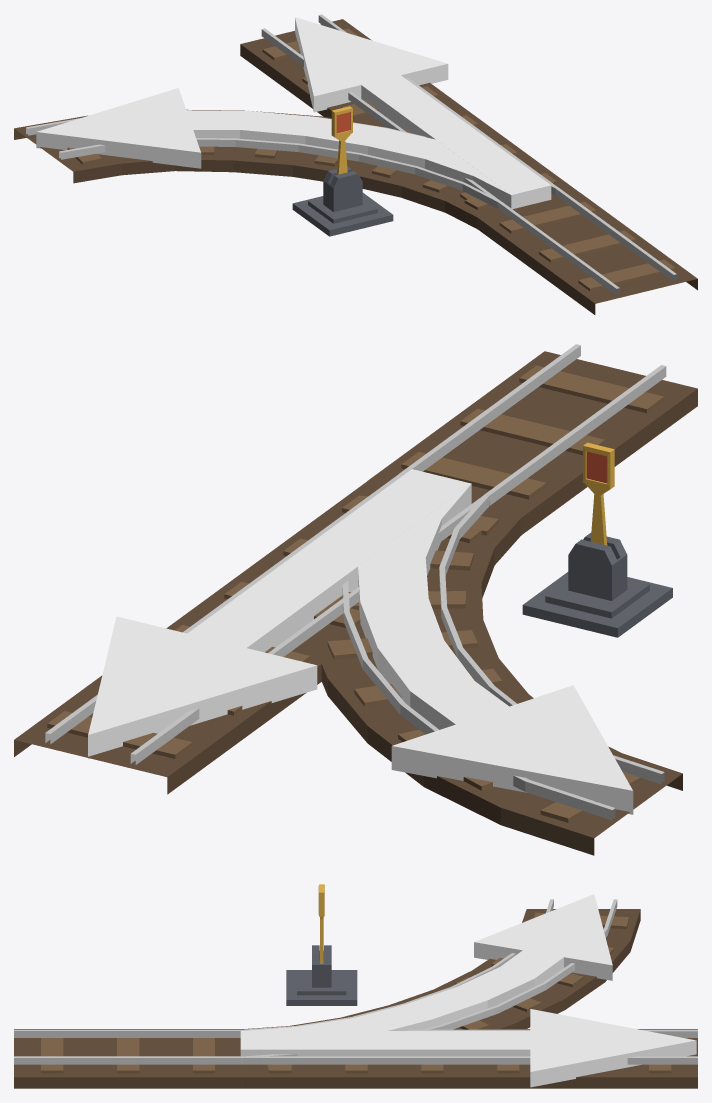
File: Switch Corner Sub.fbx
3 renders of one model, top to bottom at view 1: azimuth 30°, elevation 25°; view 2: azimuth 150°, elevation 25°; view 3: azimuth 270°, elevation 25°, orthographic. The views are drawn at different scales.
Parts seen in each view (by area): view 1: SwitchArrow-1xCurve, SwitchArrow-Straight, Straight 1x Legacy, 1 x Curve, Straight 2x Legacy, Switchbox; view 2: SwitchArrow-Straight, SwitchArrow-1xCurve, Straight 1x Legacy, 1 x Curve, Straight 2x Legacy, Switchbox; view 3: SwitchArrow-Straight, Straight 1x Legacy, Straight 2x Legacy, SwitchArrow-1xCurve, 1 x Curve, Switchbox.
Boxes of the visible parts, x1,y1,x2,y2 form: SwitchArrow-1xCurve: (36,88,519,209); SwitchArrow-Straight: (295,17,551,207); Straight 1x Legacy: (477,187,697,314); 1 x Curve: (14,109,558,228); Straight 2x Legacy: (240,14,578,229); Switchbox: (292,106,393,236); SwitchArrow-Straight: (88,469,470,758); SwitchArrow-1xCurve: (358,483,633,814); Straight 1x Legacy: (368,344,697,534); 1 x Curve: (321,473,682,855); Straight 2x Legacy: (14,475,522,794); Switchbox: (522,442,672,637); SwitchArrow-Straight: (240,1009,696,1087); Straight 1x Legacy: (14,1029,241,1088); Straight 2x Legacy: (241,1029,697,1088); SwitchArrow-1xCurve: (243,894,612,1030); 1 x Curve: (241,899,640,1088); Switchbox: (286,884,357,1005).
Size of the model in its own units: 1.85 by 0.5236 by 3.
